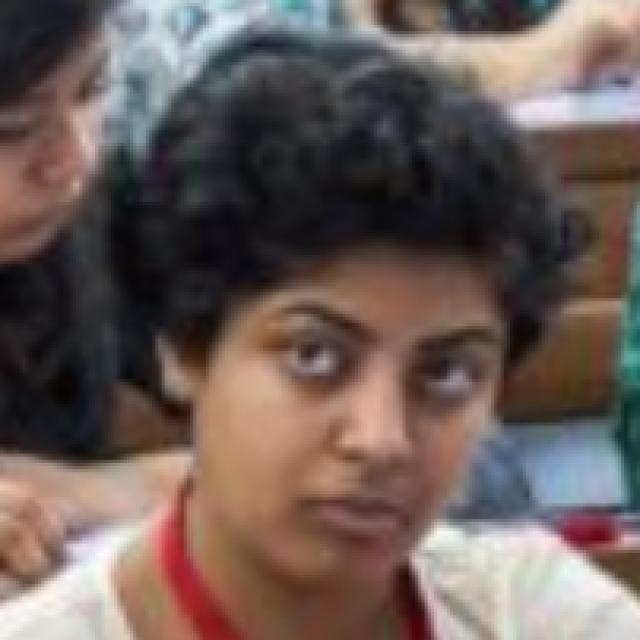Looking forward: (205, 249, 503, 589)
